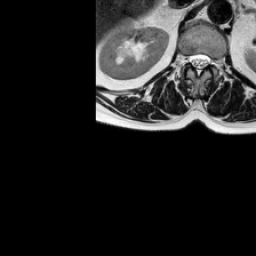CCS_normal: (195, 45, 202, 80)
LFS_normal: (211, 47, 217, 73)
LLS_normal: (202, 46, 211, 71)
RFS_normal: (181, 46, 188, 69)
RLS_normal: (188, 47, 195, 71)
